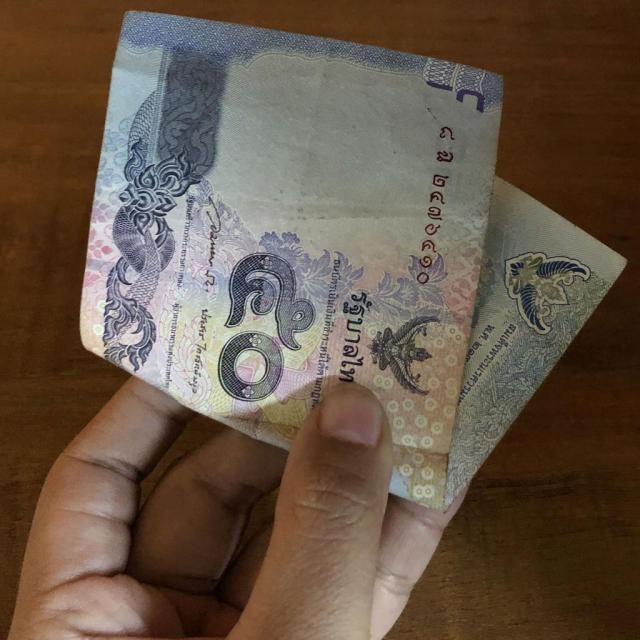THAI50: (78, 11, 626, 516)
